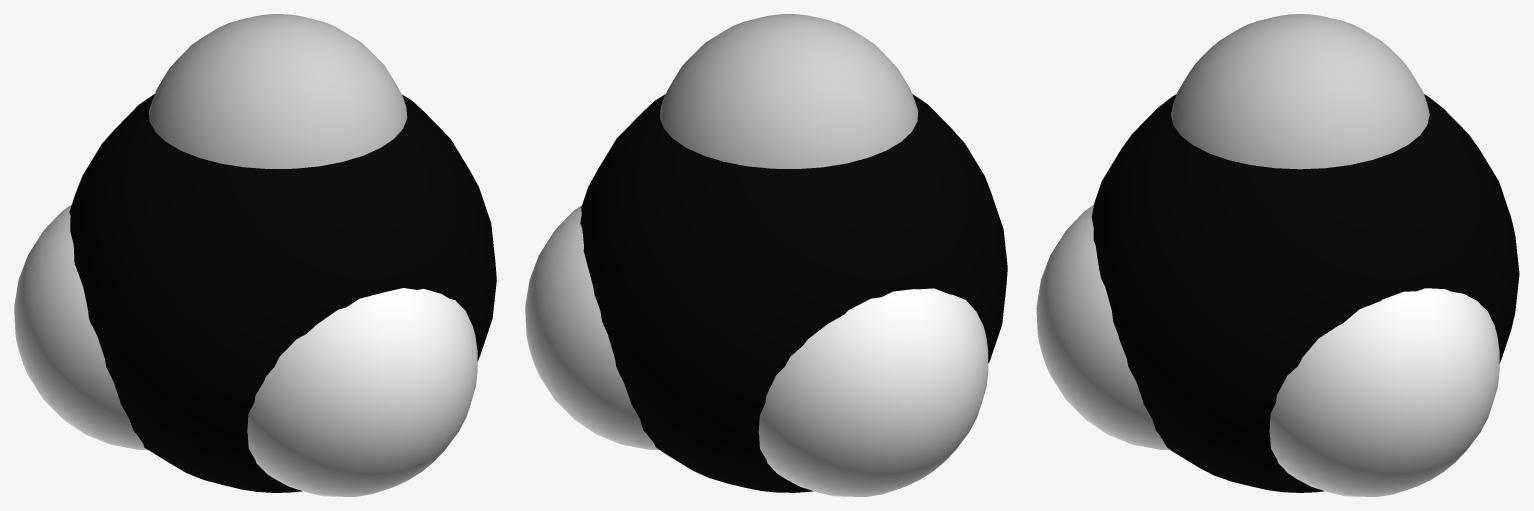
Rendered from metano.obj.
The picture shows the model from 3 angles, left to right: view 1: azimuth 30°, elevation 25°; view 2: azimuth 150°, elevation 25°; view 3: azimuth 270°, elevation 25°; orthographic projection.
Parts seen in each view (by area): view 1: carbono.002_Sphere.009, carbono.006_Sphere.002, Sphere.004, carbono.005_Sphere.001; view 2: carbono.002_Sphere.009, carbono.005_Sphere.001, Sphere.004, carbono.001_Sphere.007; view 3: carbono.002_Sphere.009, carbono.001_Sphere.007, Sphere.004, carbono.006_Sphere.002.
Part boxes in pixels (box(x1,y1,x2,y2)): carbono.002_Sphere.009: box(69, 94, 496, 492); carbono.006_Sphere.002: box(247, 288, 477, 496); Sphere.004: box(149, 14, 407, 168); carbono.005_Sphere.001: box(14, 204, 147, 449); carbono.002_Sphere.009: box(580, 94, 1007, 492); carbono.005_Sphere.001: box(758, 288, 988, 496); Sphere.004: box(660, 14, 918, 168); carbono.001_Sphere.007: box(525, 205, 658, 449); carbono.002_Sphere.009: box(1091, 94, 1519, 492); carbono.001_Sphere.007: box(1269, 288, 1499, 496); Sphere.004: box(1171, 14, 1429, 169); carbono.006_Sphere.002: box(1036, 205, 1169, 449).
Bounding box in the file's own units: 2.25 × 2.25 × 2.2.
